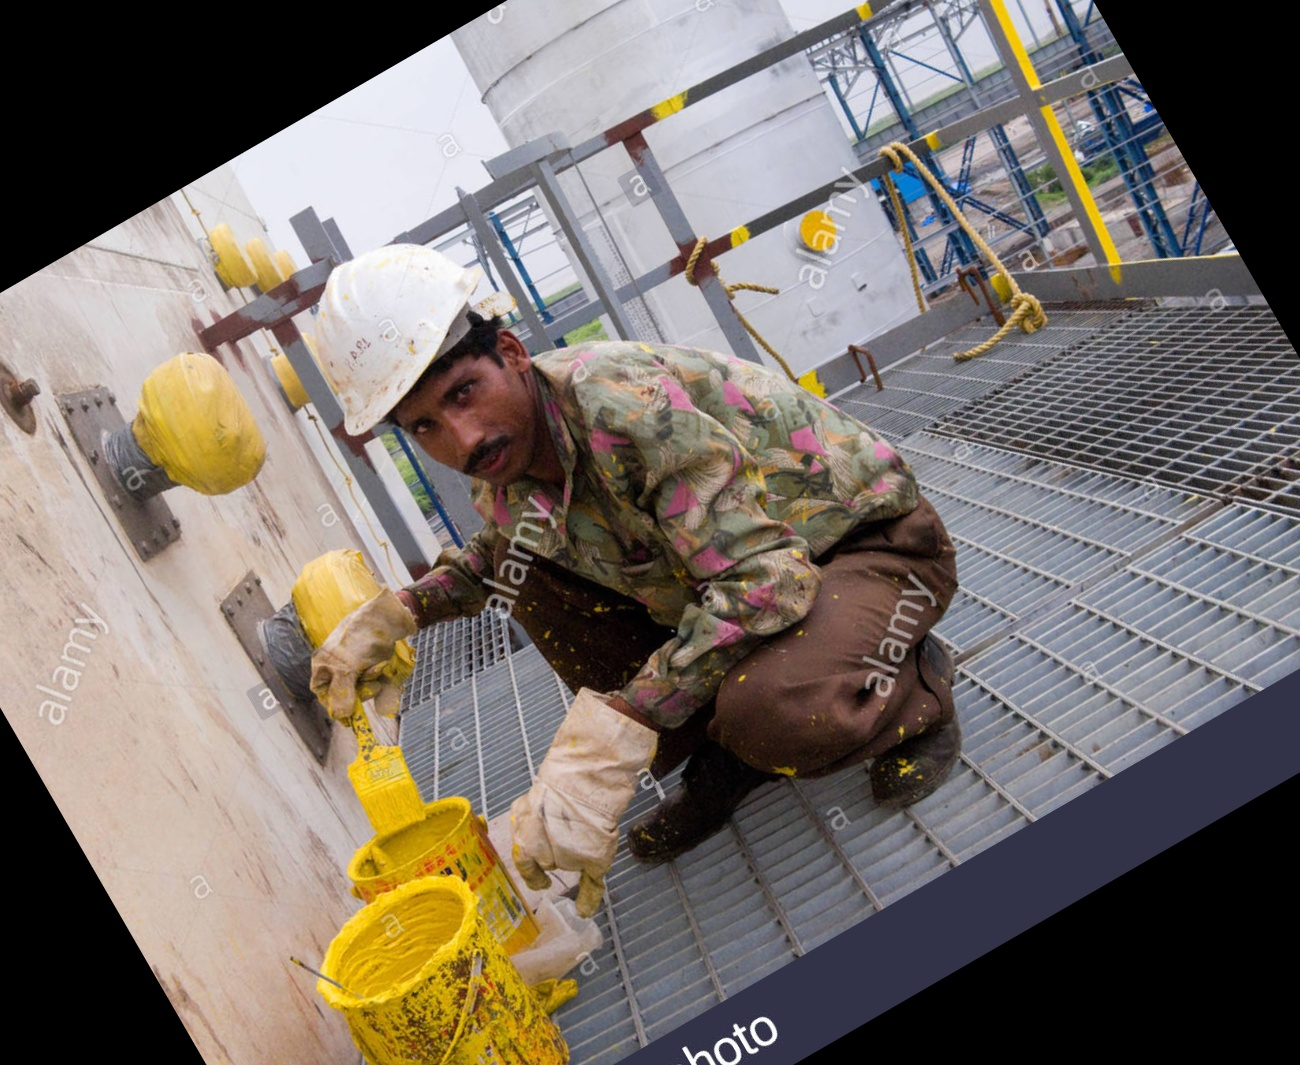NoJacket: (313, 247, 900, 593)
